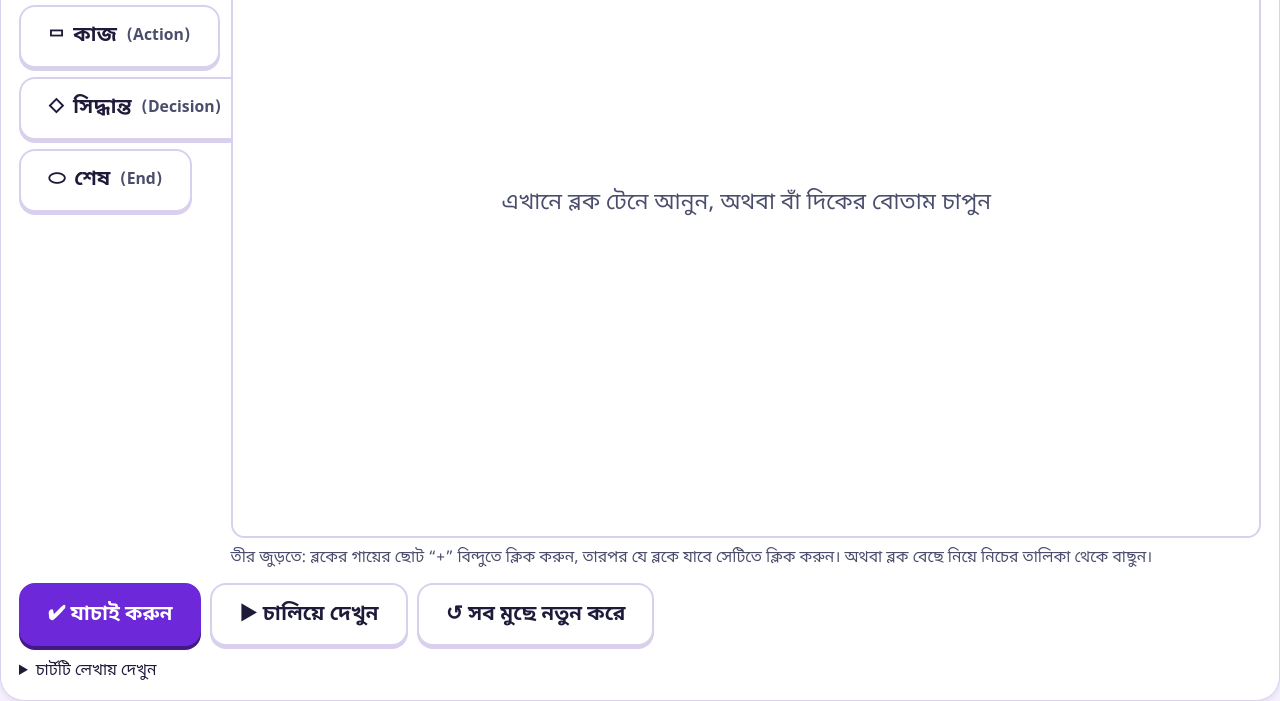
Test: flowchart-builder › reports problems on an empty and a half-built chart
(page scrolled)
Click the button with test id "fc-check" at point(110, 615), box [19, 583, 202, 646]
(page scrolled)
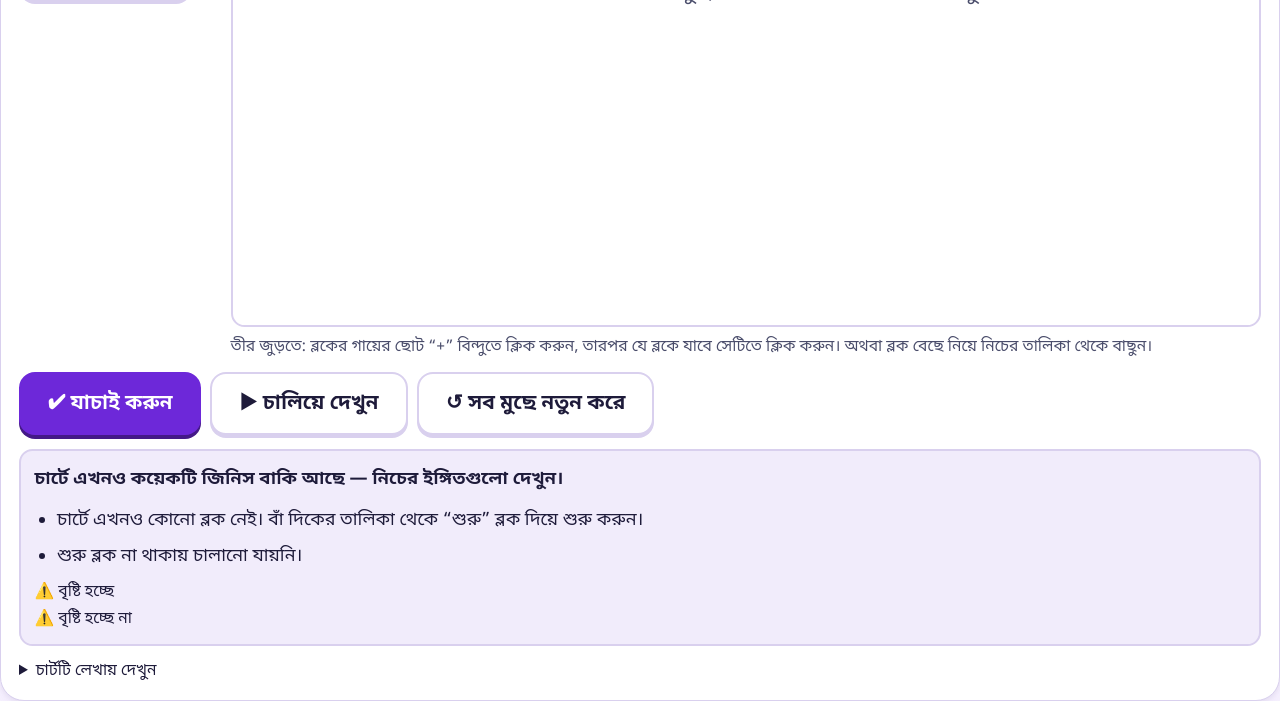
Check: the list with test id "fc-hints" shows "কোনো ব্লক নেই", box [57, 508, 643, 532]
